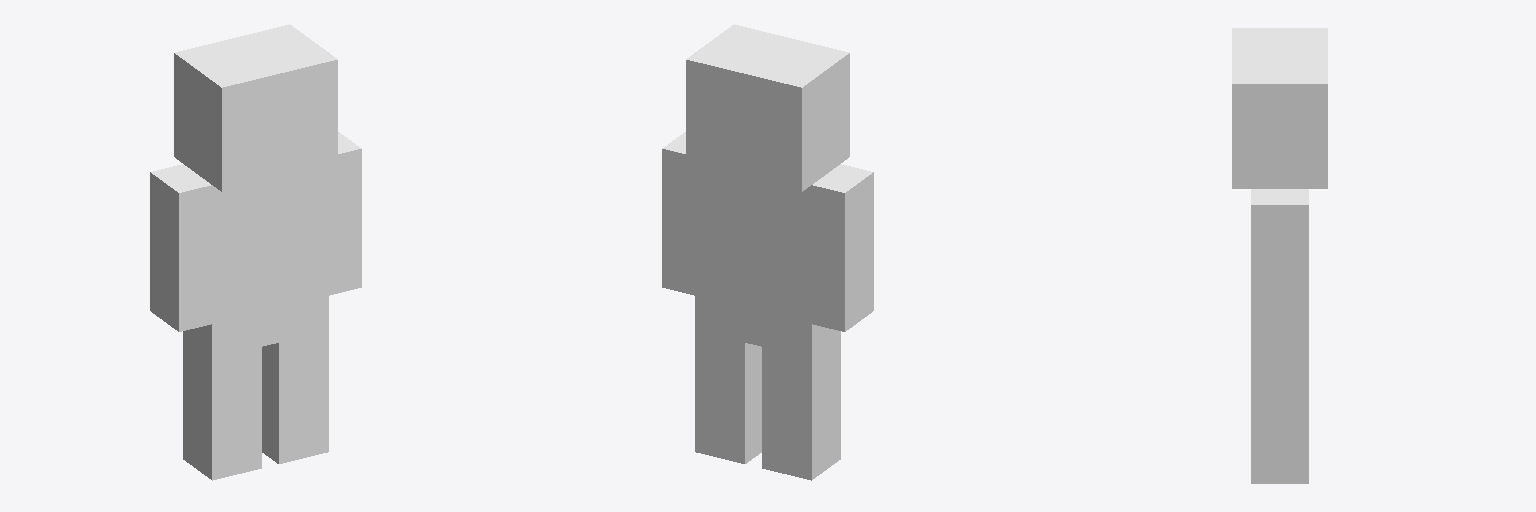
Rendered from Sanji.obj.
The picture shows the model from 3 angles: view 1: azimuth 30°, elevation 25°; view 2: azimuth 150°, elevation 25°; view 3: azimuth 270°, elevation 25°; orthographic projection.
Visible parts, largest first — view 1: object 1; view 2: object 1; view 3: object 1.
Part boxes in pixels (x1,y1,x2,y2): object 1: (150,24,361,480); object 1: (662,24,873,480); object 1: (1232,28,1327,483).
Size of the model in its own units: 1.1 by 2.3 by 0.5.